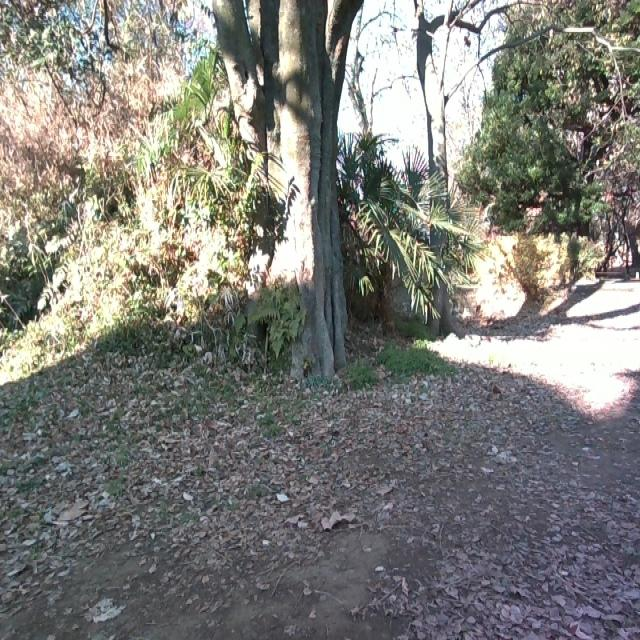bush: (74, 203, 292, 369), (344, 137, 481, 332)
tree: (209, 0, 360, 376), (413, 0, 479, 336)
